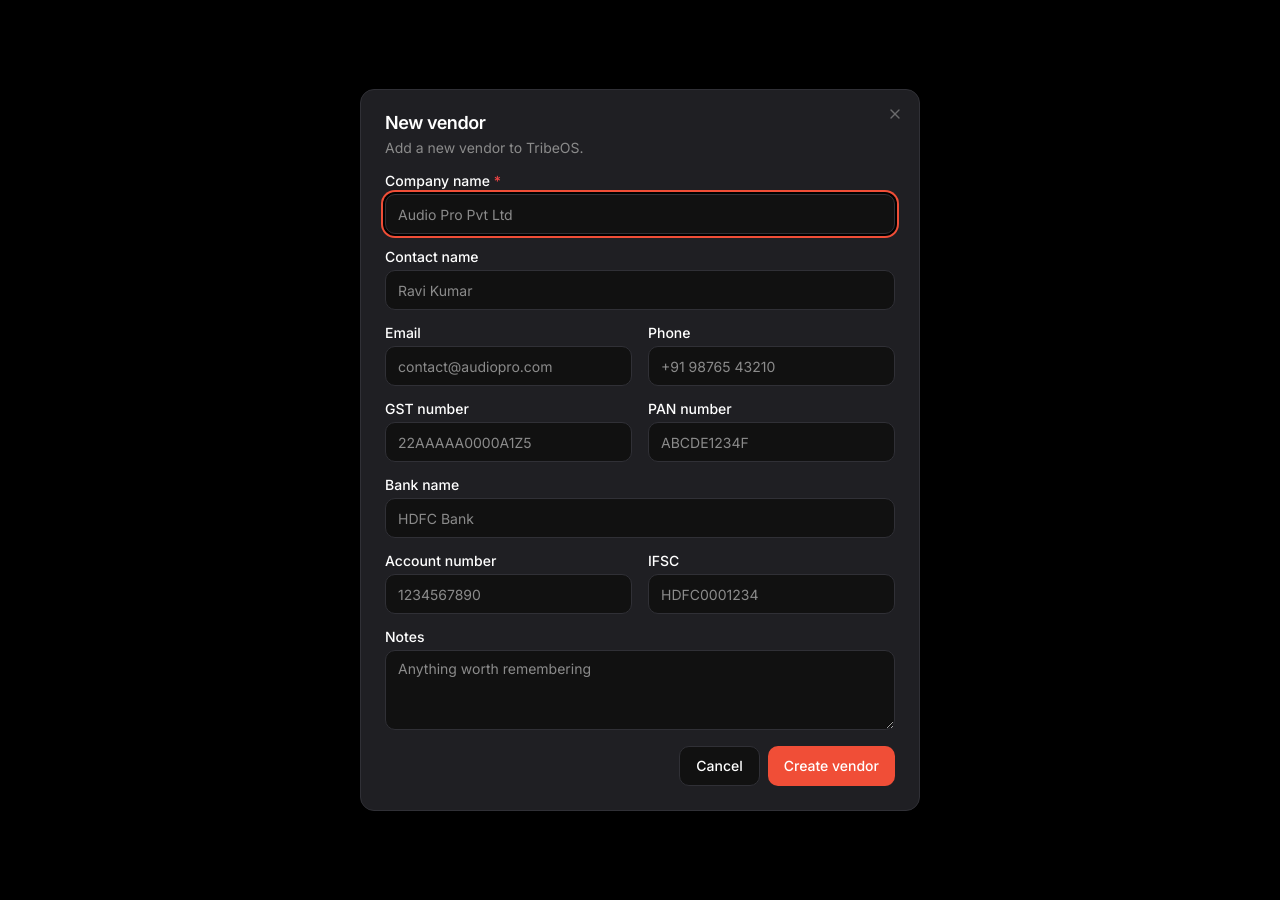
Test: vendors feature › shows a validation error when company name is empty
Click the button "Create vendor" at (831, 766), box x1=768 y1=746 x2=895 y2=786
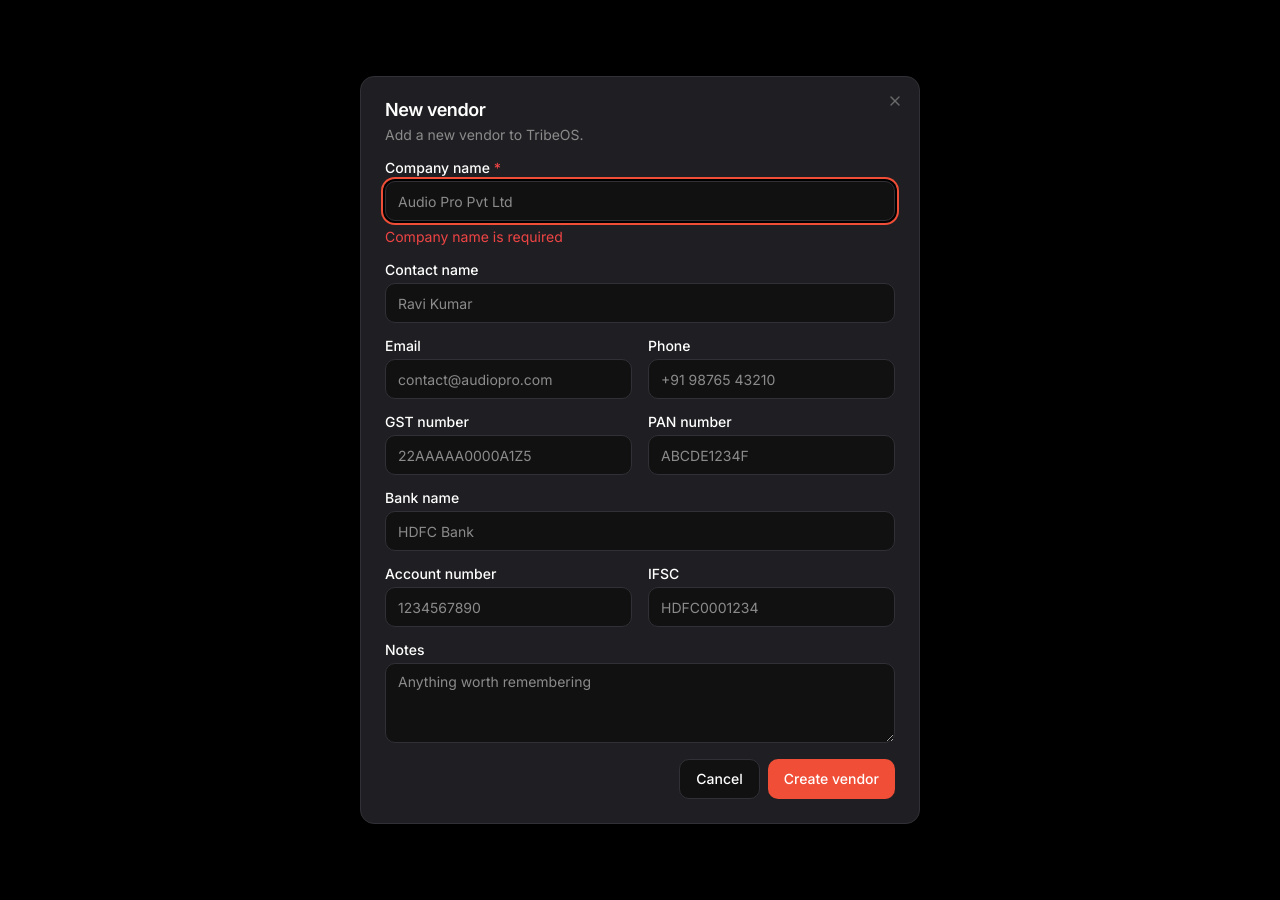
Expected: the text "Company name is required" is shown, x1=385 y1=228 x2=563 y2=245
